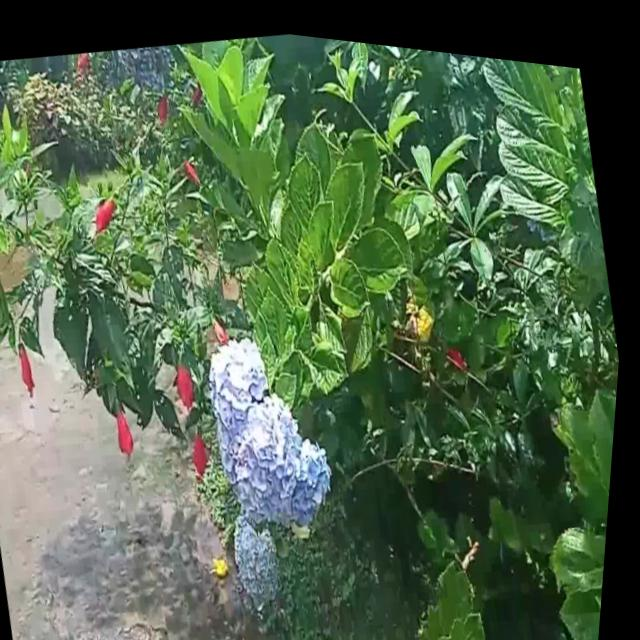Flower: (197, 315, 357, 533), (233, 513, 297, 601), (112, 387, 149, 457), (88, 177, 129, 235), (17, 334, 50, 403), (176, 350, 204, 403), (194, 421, 219, 473)
